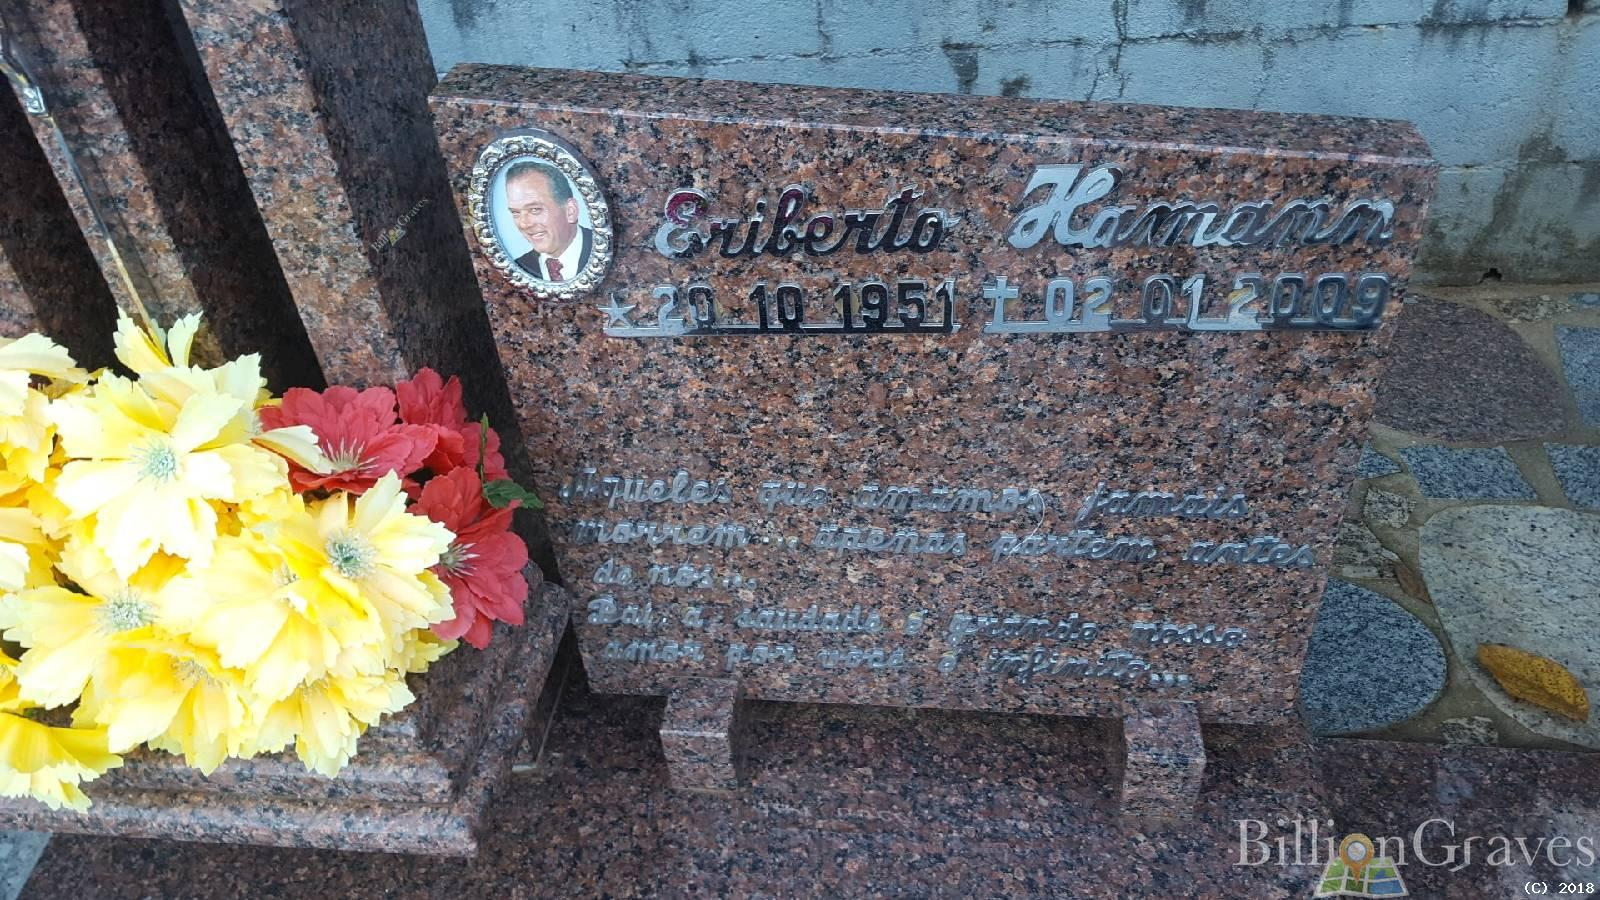upright: (401, 45, 1452, 765)
